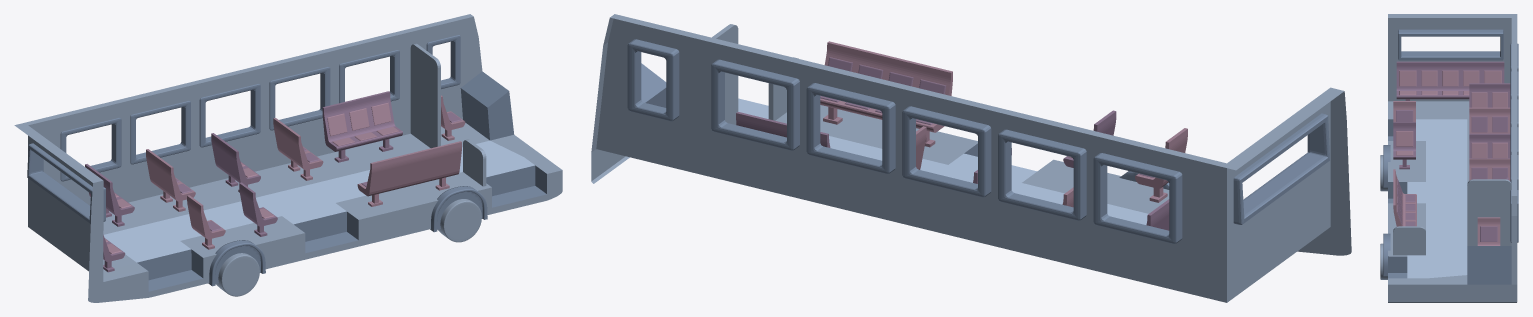
Rendered from bus.fbx.
3 renders of one model, left to right at view 1: azimuth 30°, elevation 25°; view 2: azimuth 150°, elevation 25°; view 3: azimuth 270°, elevation 25°, orthographic. The views are drawn at different scales.
Visible parts, largest first — view 1: Bus, Cube.001, Cube.014, Cube.003, Cilindro, Cube.002, Cube.008, Cube.006, Cube.007, Cube.011, Cube.009, Cube.005 (+2 smaller); view 2: Bus, Cube.001, Cube.003, Cube.009, Cube.014, Cube.005; view 3: Bus, Cube.013, Cube.001, Cube.006, Cube.007, Cube.005, Cube.011, Cube.008, Cube.003, Cube.012, Cube.002, Cube.009 (+1 smaller).
Part boxes in pixels (x1=…): Bus: x1=14, y1=14, x2=562, y2=302; Cube.001: x1=27, y1=35, x2=460, y2=223; Cube.014: x1=322, y1=91, x2=402, y2=162; Cube.003: x1=357, y1=141, x2=461, y2=206; Cilindro: x1=216, y1=199, x2=481, y2=296; Cube.002: x1=208, y1=186, x2=487, y2=286; Cube.008: x1=273, y1=118, x2=323, y2=180; Cube.006: x1=146, y1=149, x2=195, y2=211; Cube.007: x1=211, y1=133, x2=260, y2=192; Cube.011: x1=239, y1=182, x2=277, y2=236; Cube.009: x1=187, y1=195, x2=225, y2=249; Cube.005: x1=85, y1=164, x2=134, y2=226; Bus: x1=591, y1=14, x2=1351, y2=302; Cube.001: x1=627, y1=39, x2=1329, y2=243; Cube.003: x1=820, y1=41, x2=952, y2=147; Cube.009: x1=1135, y1=128, x2=1187, y2=202; Cube.014: x1=736, y1=112, x2=830, y2=147; Cube.005: x1=1146, y1=199, x2=1169, y2=230; Bus: x1=1388, y1=14, x2=1517, y2=302; Cube.013: x1=1396, y1=61, x2=1504, y2=100; Cube.001: x1=1398, y1=29, x2=1518, y2=242; Cube.006: x1=1469, y1=107, x2=1510, y2=133; Cube.007: x1=1469, y1=133, x2=1510, y2=158; Cube.005: x1=1469, y1=83, x2=1510, y2=107; Cube.011: x1=1393, y1=122, x2=1415, y2=169; Cube.008: x1=1469, y1=158, x2=1510, y2=180; Cube.003: x1=1393, y1=169, x2=1416, y2=226; Cube.012: x1=1477, y1=217, x2=1500, y2=245; Cube.002: x1=1383, y1=145, x2=1390, y2=276; Cube.009: x1=1393, y1=101, x2=1415, y2=121.
Size of the model in its own units: 739 by 215 by 228.
